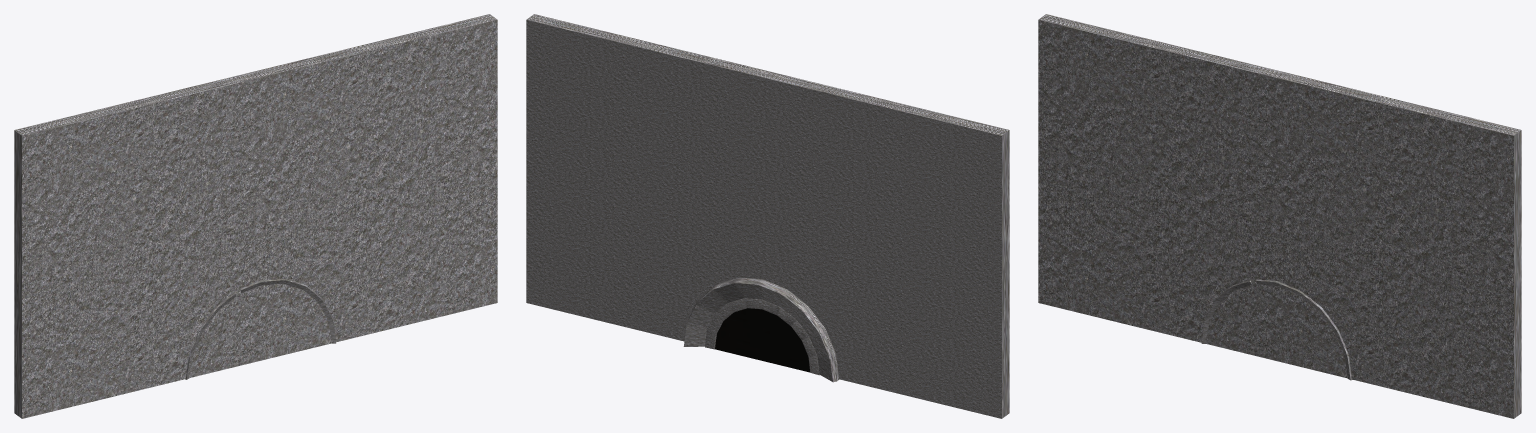
File: cave.fbx
3 views of the same model, side by side, from view 1: azimuth 30°, elevation 25°; view 2: azimuth 150°, elevation 25°; view 3: azimuth 330°, elevation 25° (orthographic).
Parts seen in each view (by area): view 1: pCube3, pCube1; view 2: pCube3, pCube1, pCube2; view 3: pCube3, pCube1.
Boxes of the visible parts, bbox=[...] form: pCube3: bbox=[14, 14, 497, 418]; pCube1: bbox=[185, 279, 335, 379]; pCube3: bbox=[526, 14, 1009, 418]; pCube1: bbox=[683, 277, 839, 382]; pCube2: bbox=[714, 308, 810, 372]; pCube3: bbox=[1038, 14, 1521, 418]; pCube1: bbox=[1201, 279, 1352, 380].
Bounding box in the file's own units: 7.02 × 4.01 × 0.3553.
